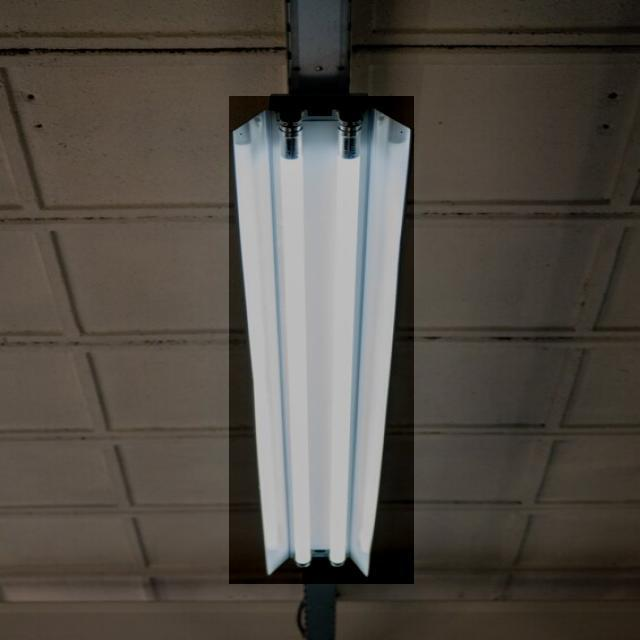Straight-Tube-Fluorescent-Lamp: (256, 94, 322, 576), (328, 104, 364, 576)
